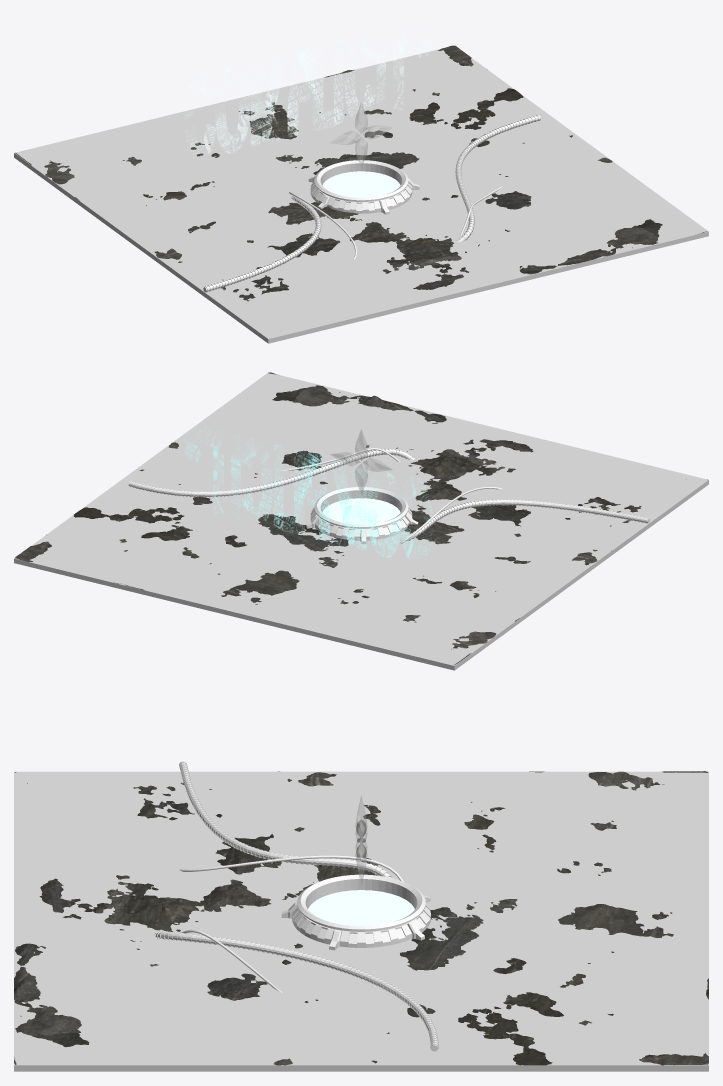
File: rock-scene-transformed.glb
3 views of the same model, one above another, from view 1: azimuth 30°, elevation 25°; view 2: azimuth 150°, elevation 25°; view 3: azimuth 270°, elevation 25° (orthographic). The views are drawn at different scales.
Parts seen in each view (by area): view 1: Water, Rock, Teleporter, Text, Light, logo.bottom; view 2: Water, Rock, Teleporter, Text, Light, logo.bottom; view 3: Water, Rock, Teleporter, Light, logo.bottom.
Boxes of the visible parts, left/top/right/bottom form: Water: left=14, top=49, right=708, bottom=343; Rock: left=15, top=45, right=707, bottom=301; Teleporter: left=203, top=115, right=540, bottom=292; Text: left=185, top=23, right=432, bottom=153; Light: left=322, top=171, right=400, bottom=197; logo.bottom: left=330, top=102, right=392, bottom=167; Water: left=14, top=372, right=708, bottom=670; Rock: left=15, top=372, right=707, bottom=665; Teleporter: left=128, top=448, right=649, bottom=543; Text: left=185, top=427, right=432, bottom=558; Light: left=322, top=498, right=400, bottom=524; logo.bottom: left=330, top=429, right=392, bottom=494; Water: left=14, top=771, right=708, bottom=1071; Rock: left=14, top=771, right=708, bottom=1065; Teleporter: left=154, top=761, right=438, bottom=1051; Light: left=308, top=890, right=414, bottom=925; logo.bottom: left=355, top=796, right=367, bottom=884.
Size of the model in its own units: 20.09 by 5.41 by 20.
6 materials, 2 textured.
